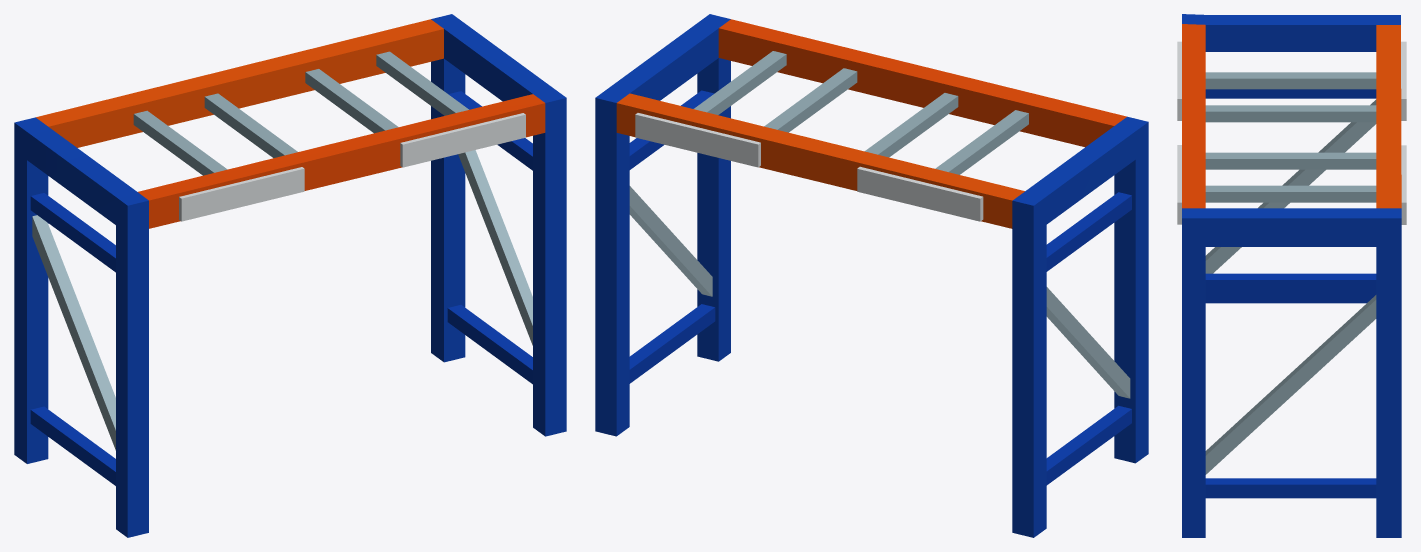
The model's file is ProtoRACK_FULL-BAY_2026.fbx.
3 renders of one model, left to right at view 1: azimuth 30°, elevation 25°; view 2: azimuth 150°, elevation 25°; view 3: azimuth 270°, elevation 25°, orthographic. The views are drawn at different scales.
Parts seen in each view (by area): view 1: ProtoRack, LabelRear.R, LabelRear.L; view 2: ProtoRack, LabelFront.R, LabelFront.L; view 3: ProtoRack, LabelFront.L, LabelFront.R, LabelRear.L, LabelRear.R.
Part boxes in pixels (x1=…): ProtoRack: x1=14, y1=14, x2=566, y2=537; LabelRear.R: x1=179, y1=167, x2=304, y2=221; LabelRear.L: x1=400, y1=113, x2=525, y2=167; ProtoRack: x1=595, y1=14, x2=1148, y2=537; LabelFront.R: x1=857, y1=166, x2=983, y2=221; LabelFront.L: x1=635, y1=113, x2=760, y2=167; ProtoRack: x1=1182, y1=14, x2=1401, y2=537; LabelFront.L: x1=1401, y1=145, x2=1406, y2=224; LabelFront.R: x1=1401, y1=41, x2=1406, y2=120; LabelRear.L: x1=1177, y1=145, x2=1181, y2=224; LabelRear.R: x1=1177, y1=41, x2=1181, y2=120.
Size of the model in its own units: 2.75 by 1.3 by 2.
